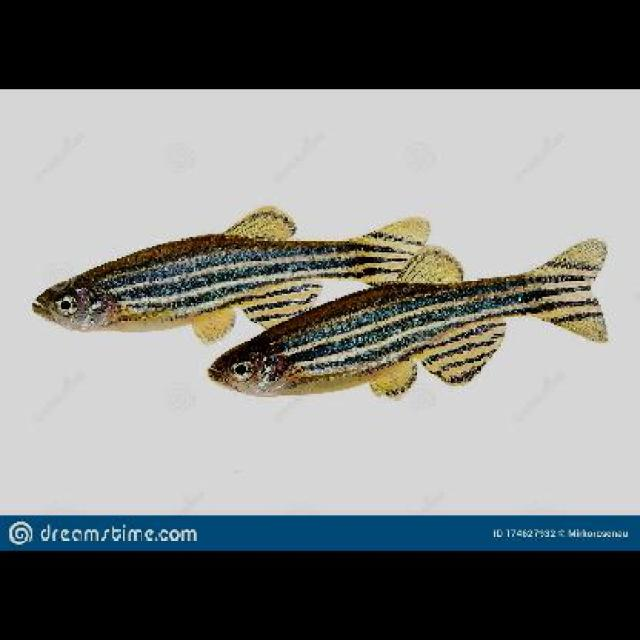ZebraFish: (206, 232, 609, 392), (30, 209, 432, 333)
